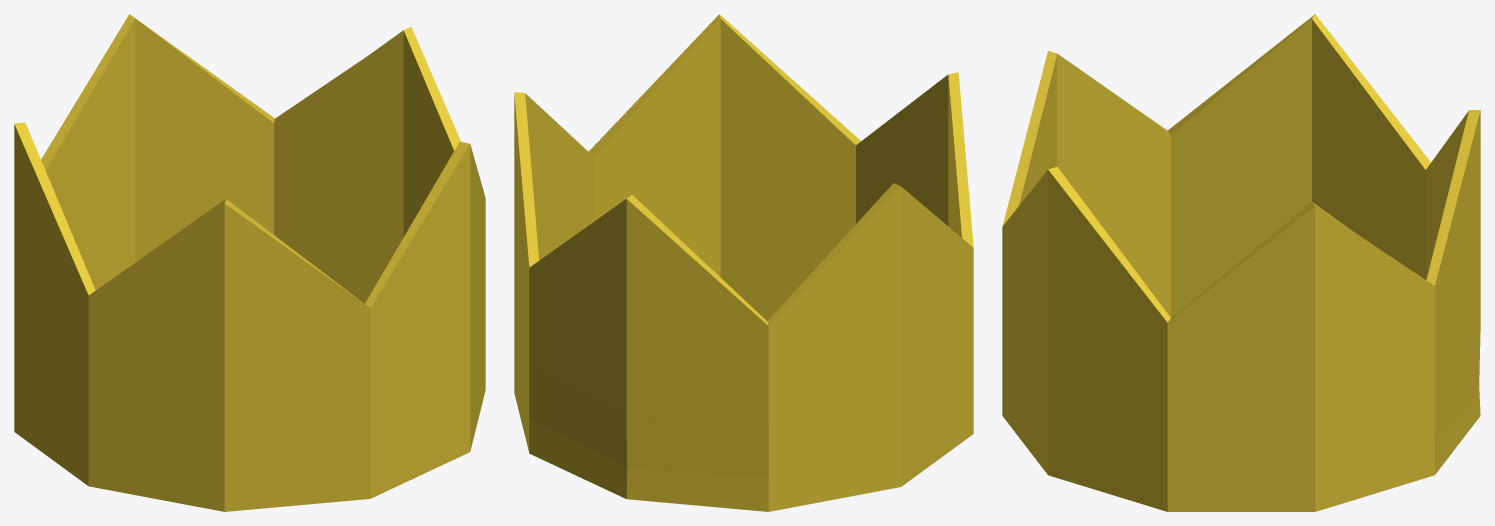
The model's file is crown.fbx.
3 views of the same model, side by side, from view 1: azimuth 30°, elevation 25°; view 2: azimuth 150°, elevation 25°; view 3: azimuth 270°, elevation 25° (orthographic). The views are drawn at different scales.
Parts seen in each view (by area): view 1: Circle; view 2: Circle; view 3: Circle.
Part boxes in pixels (x1,y1,x2,y2): Circle: (14, 14, 485, 511); Circle: (514, 14, 973, 511); Circle: (1002, 14, 1480, 511).
Bounding box in the file's own units: 200 × 148 × 210.
